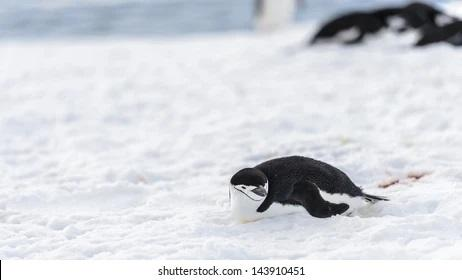chinstrap: (226, 151, 381, 242)
